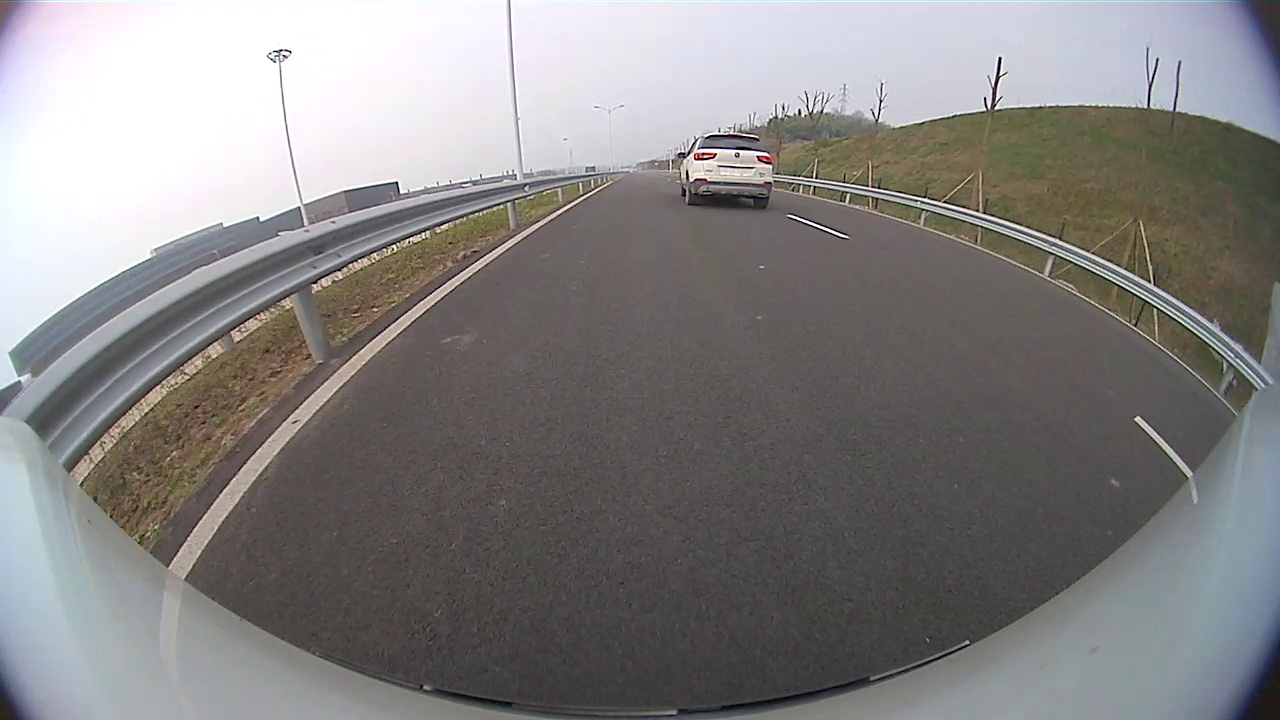car: (678, 133, 774, 208)
